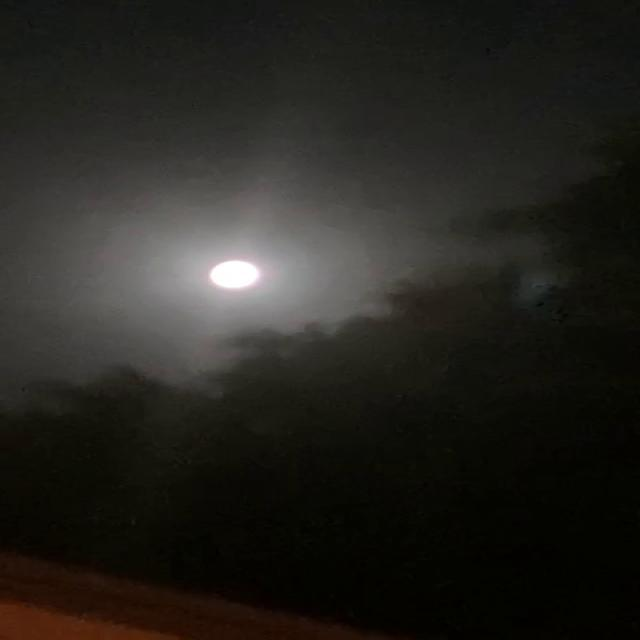moon: (194, 254, 277, 298)
